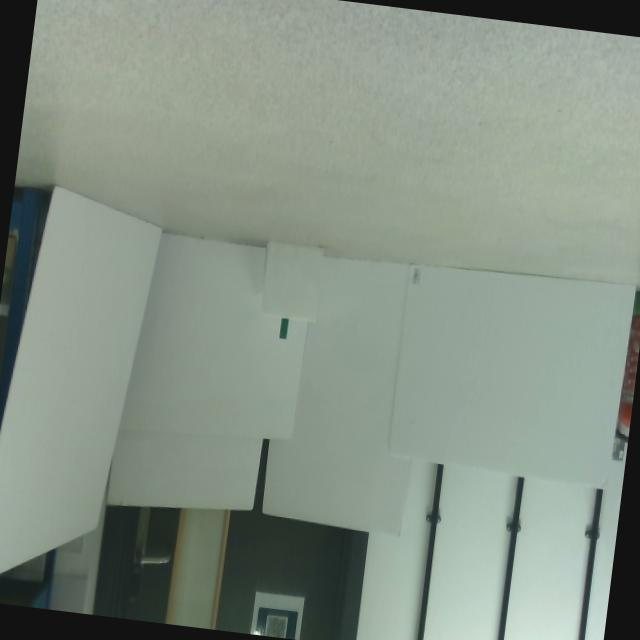green_cylinder: (278, 318, 288, 339)
